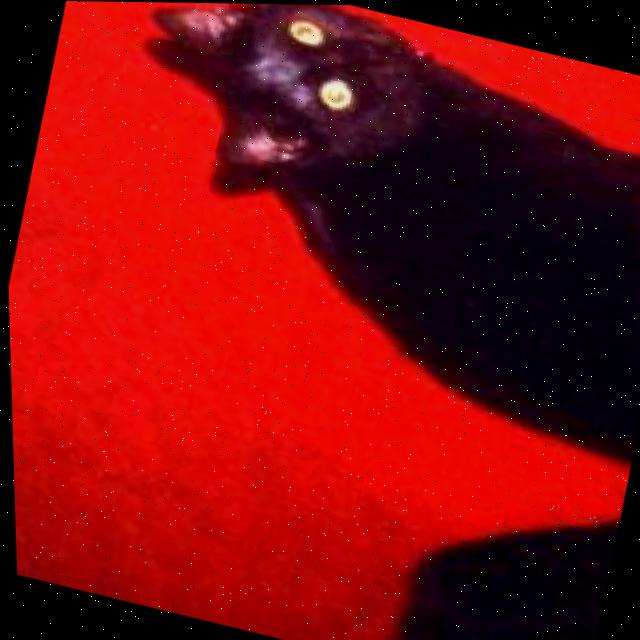Bombay: (14, 0, 640, 640)
